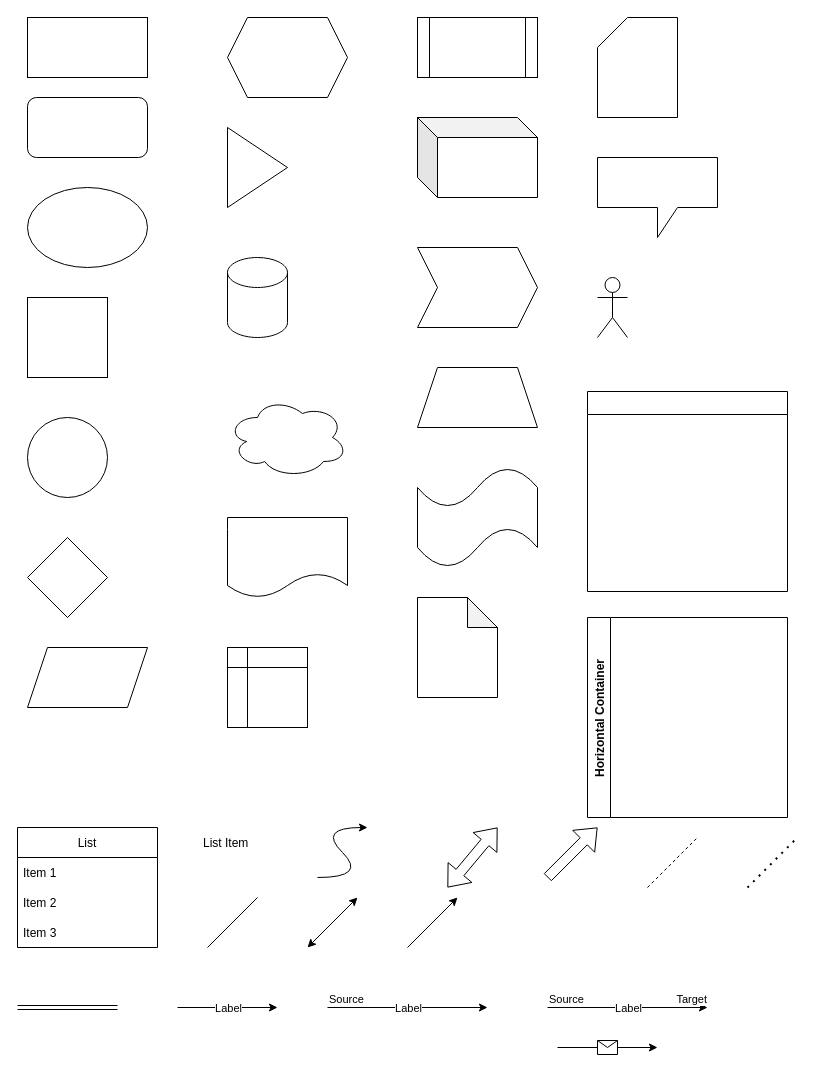
Some shapes in this 817 by 1073 pixel diagram are drawn without their labels. The shapes that lost their labels are listed below. From the top down, each one's centre as x and y in pixels, then its label:
At point (612, 307): "Actor".
At point (687, 491): "Vertical Container".
